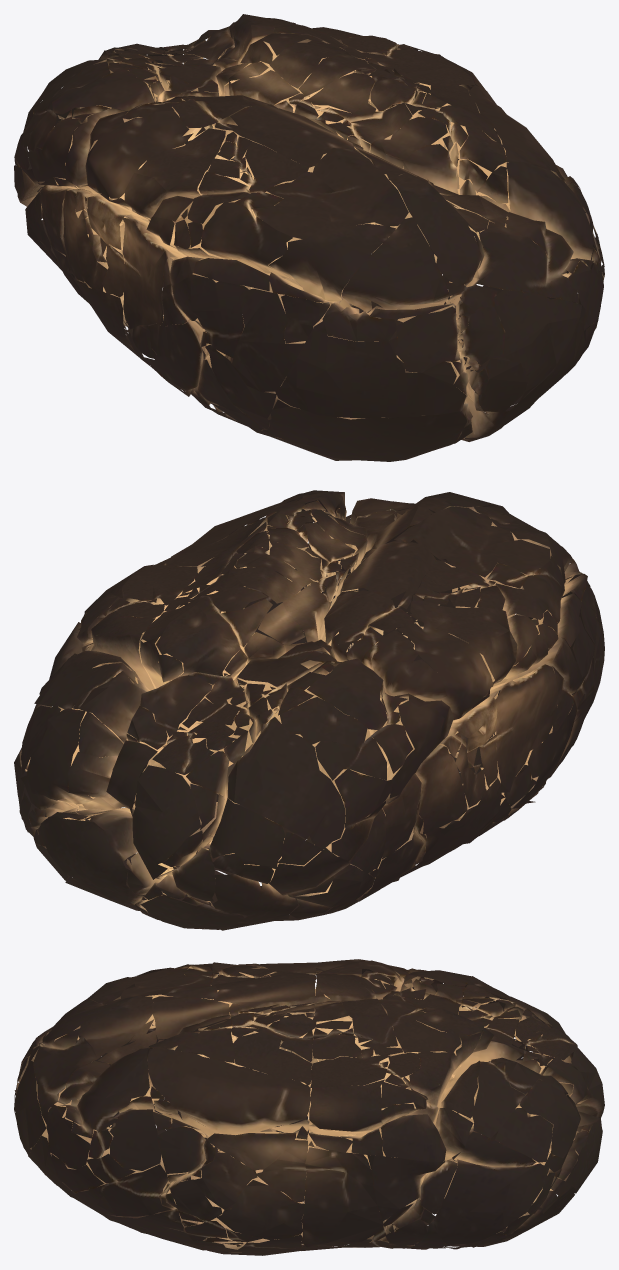
Rendered from hearth-ember-slim.glb.
The picture shows the model from 3 angles, top to bottom: view 1: azimuth 30°, elevation 25°; view 2: azimuth 150°, elevation 25°; view 3: azimuth 270°, elevation 25°; orthographic projection. The views are drawn at different scales.
Parts seen in each view (by area): view 1: Mesh_0; view 2: Mesh_0; view 3: Mesh_0.
Boxes of the visible parts, x1,y1,x2,y2 form: Mesh_0: (14, 14, 604, 461); Mesh_0: (14, 490, 604, 930); Mesh_0: (14, 959, 604, 1255).
Bounding box in the file's own units: 1.17 × 0.8581 × 1.9.
Materials: 1 (1 with a texture image).
